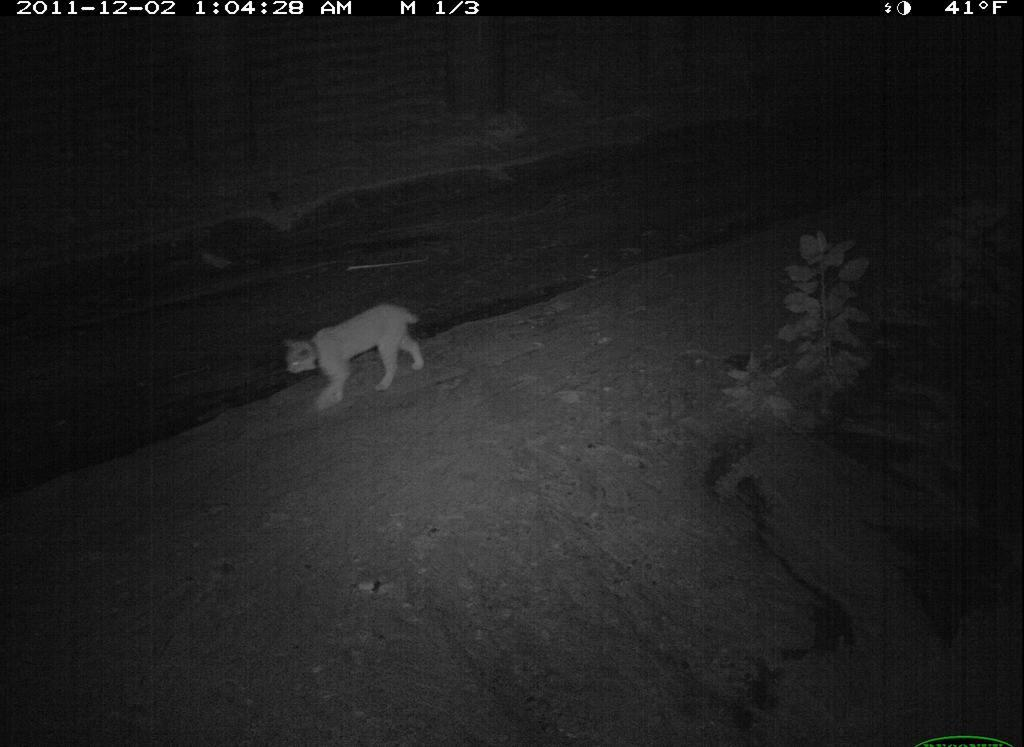bobcat: (285, 295, 438, 417)
